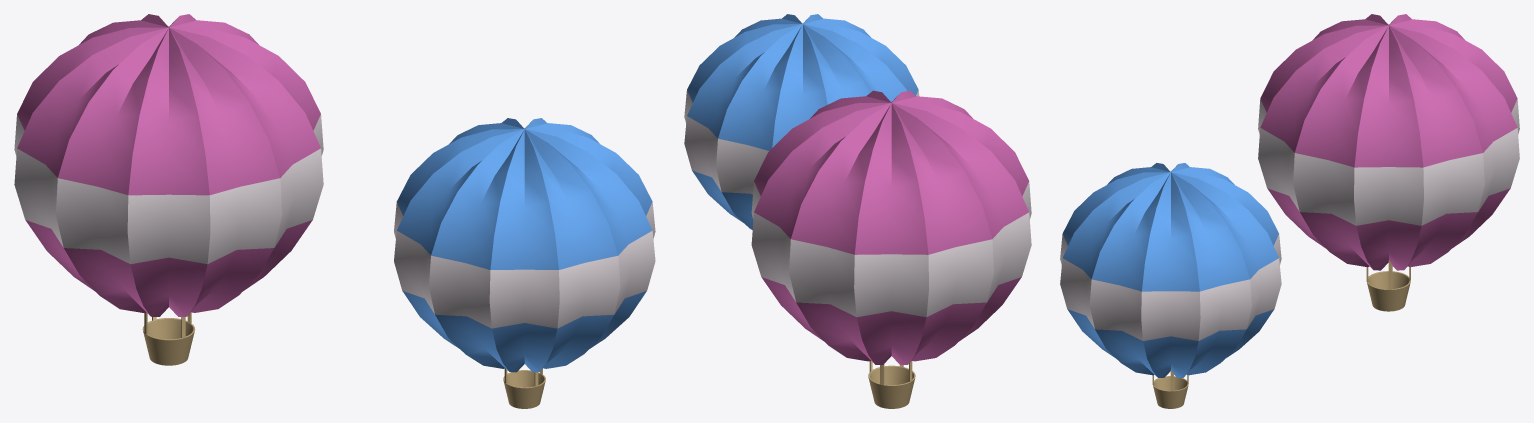
Rendered from 热气球.fbx.
The picture shows the model from 3 angles, left to right: view 1: azimuth 30°, elevation 25°; view 2: azimuth 150°, elevation 25°; view 3: azimuth 270°, elevation 25°; orthographic projection. The views are drawn at different scales.
Parts seen in each view (by area): view 1: 球体, 球体_4, 圆柱, 圆柱_2; view 2: 球体, 球体_4, 圆柱; view 3: 球体, 球体_4, 圆柱, 圆柱_2.
Boxes of the visible parts, x1,y1,x2,y2 form: 球体: [14, 14, 323, 316]; 球体_4: [394, 118, 655, 372]; 圆柱: [142, 312, 195, 365]; 圆柱_2: [503, 368, 545, 408]; 球体: [751, 90, 1031, 364]; 球体_4: [684, 14, 919, 229]; 圆柱: [868, 360, 915, 408]; 球体: [1258, 14, 1519, 270]; 球体_4: [1060, 163, 1281, 377]; 圆柱: [1366, 260, 1410, 311]; 圆柱_2: [1152, 369, 1188, 408].
Size of the model in its own units: 1226 by 830 by 1216.
